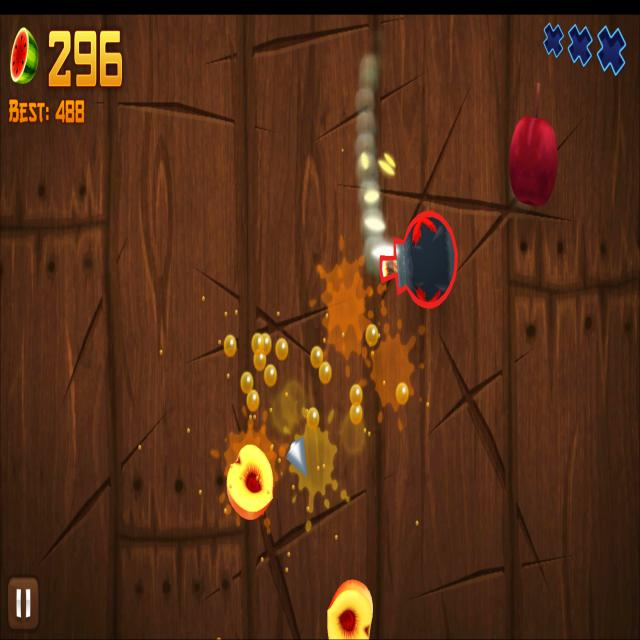bomb: (378, 207, 460, 313)
fruit: (508, 113, 559, 209)
